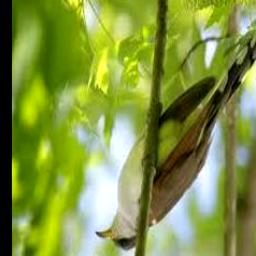Cuckoo: (95, 31, 256, 251)
